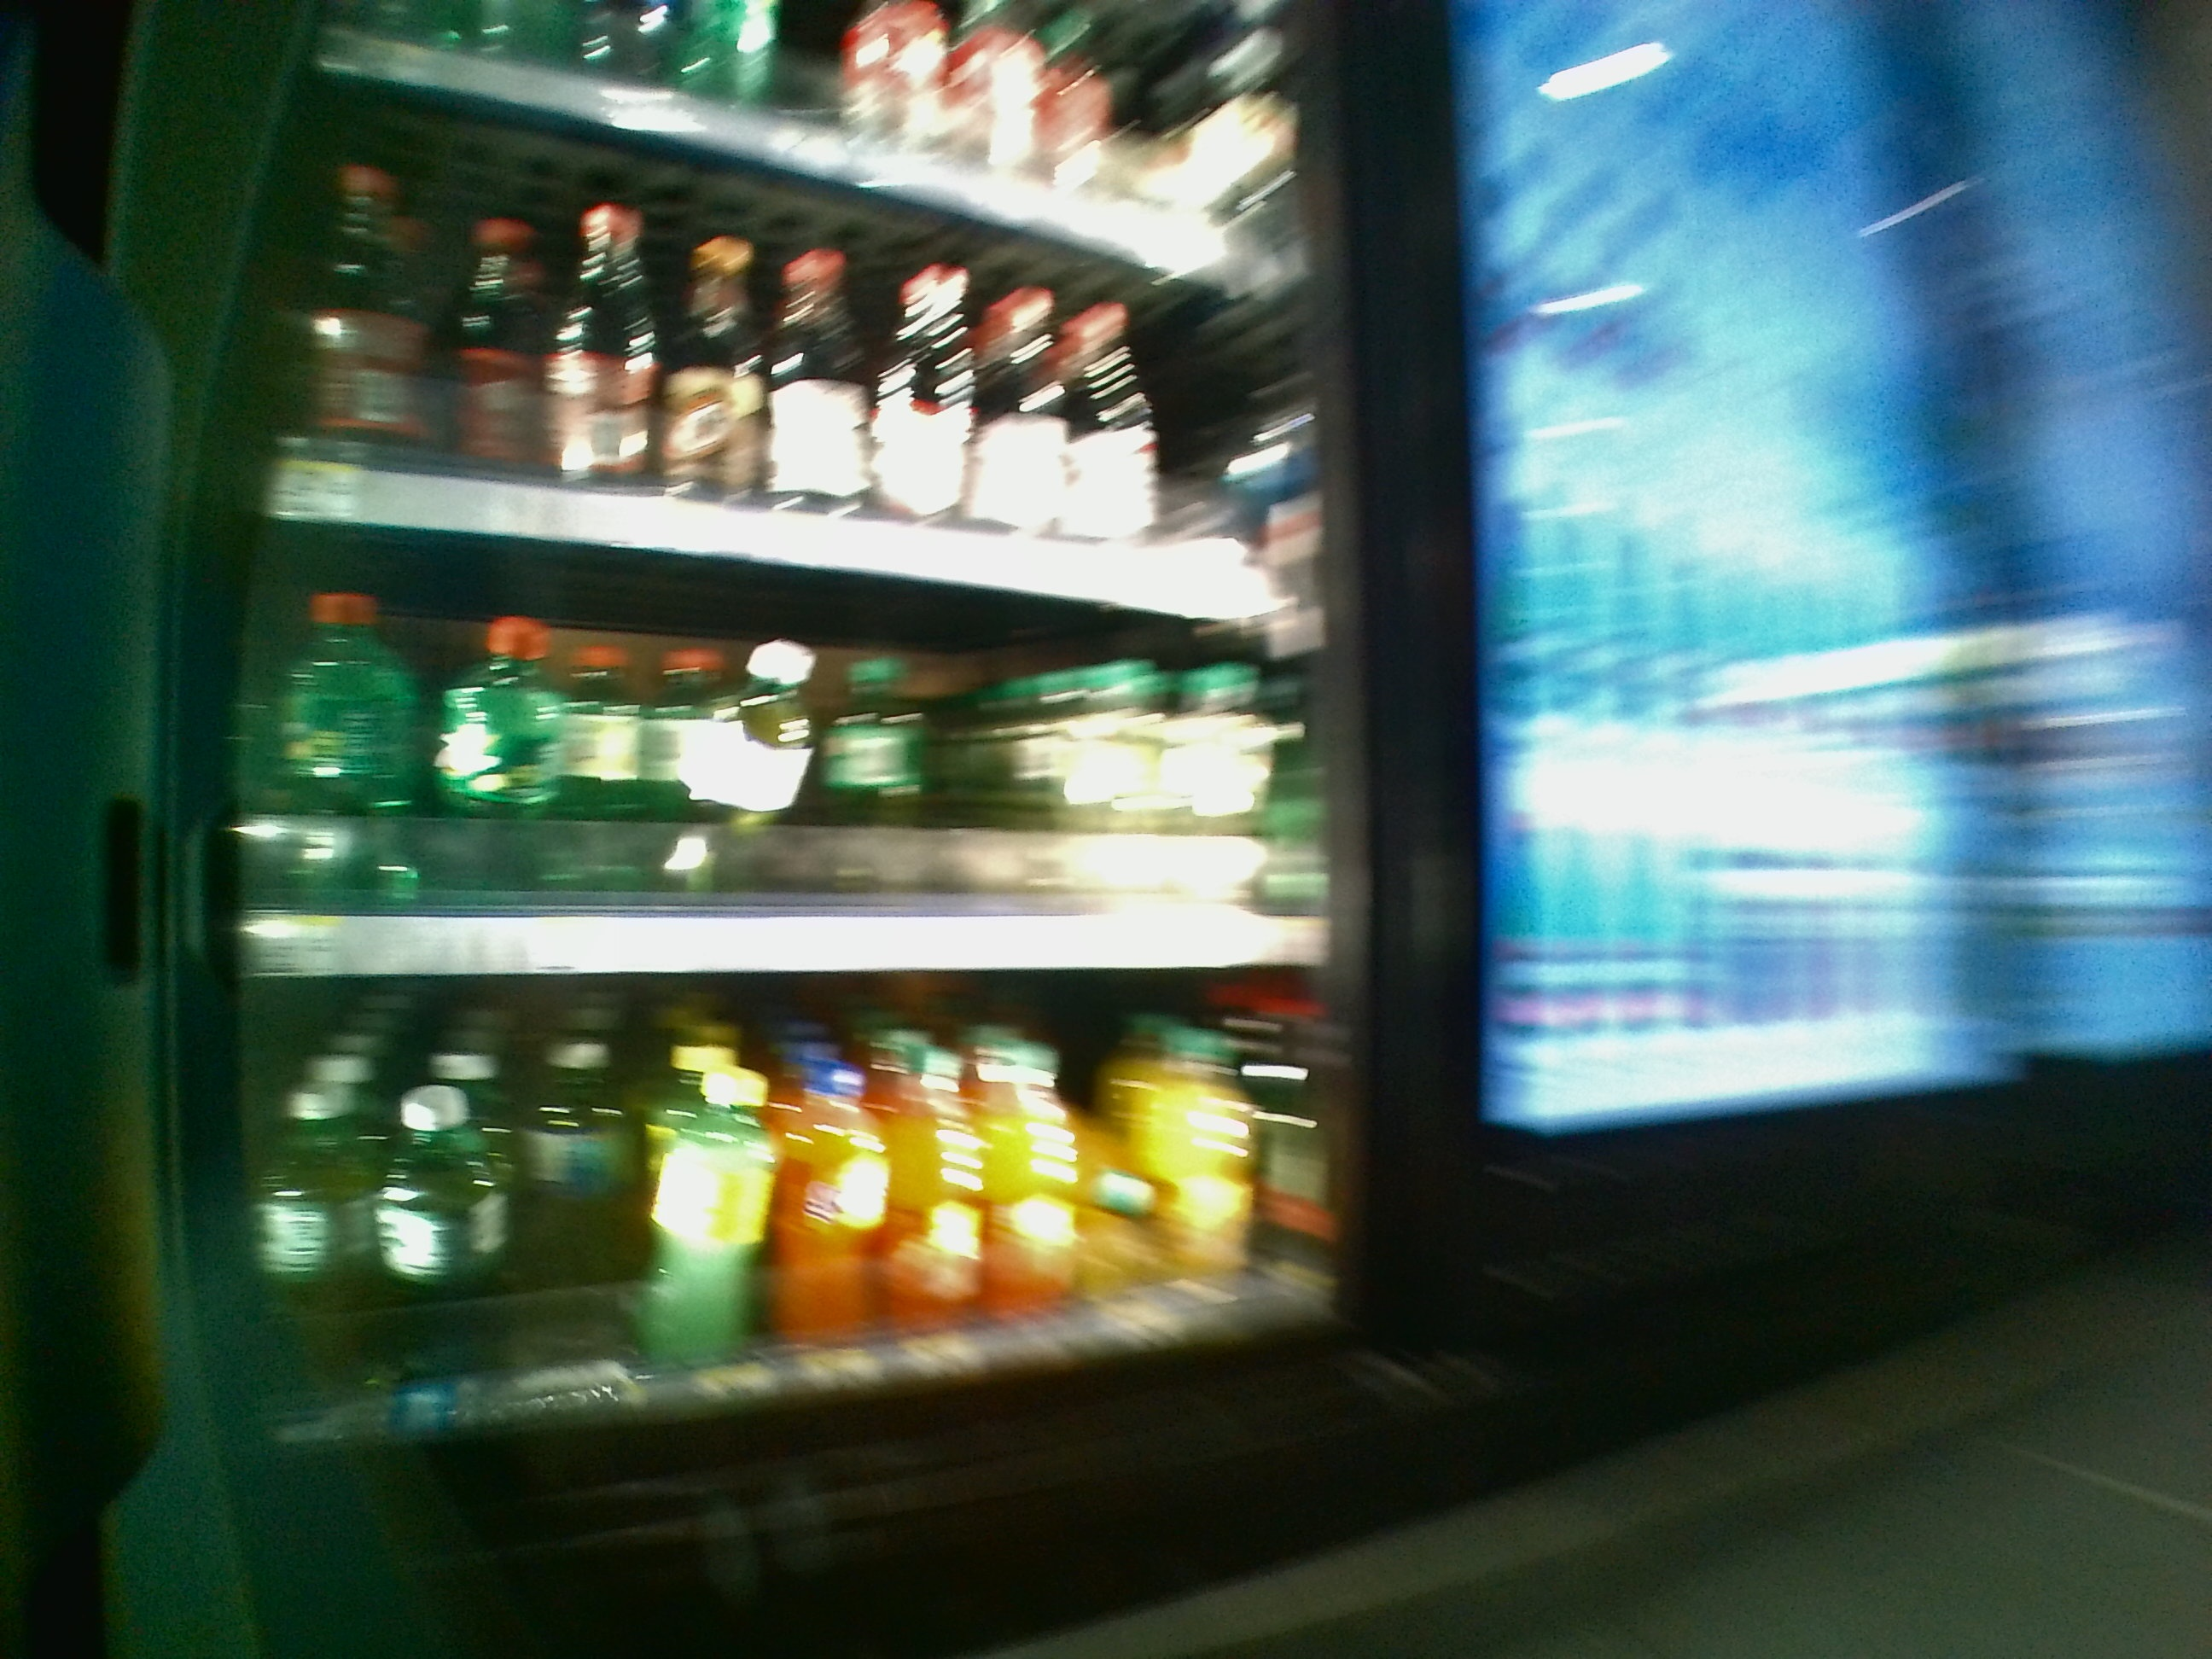shelf: (253, 971, 1355, 1439), (247, 563, 1366, 981), (270, 185, 1313, 565)
